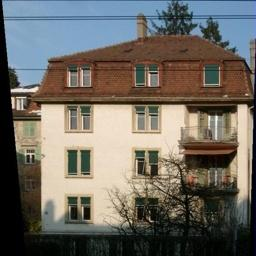building: (33, 13, 247, 237)
